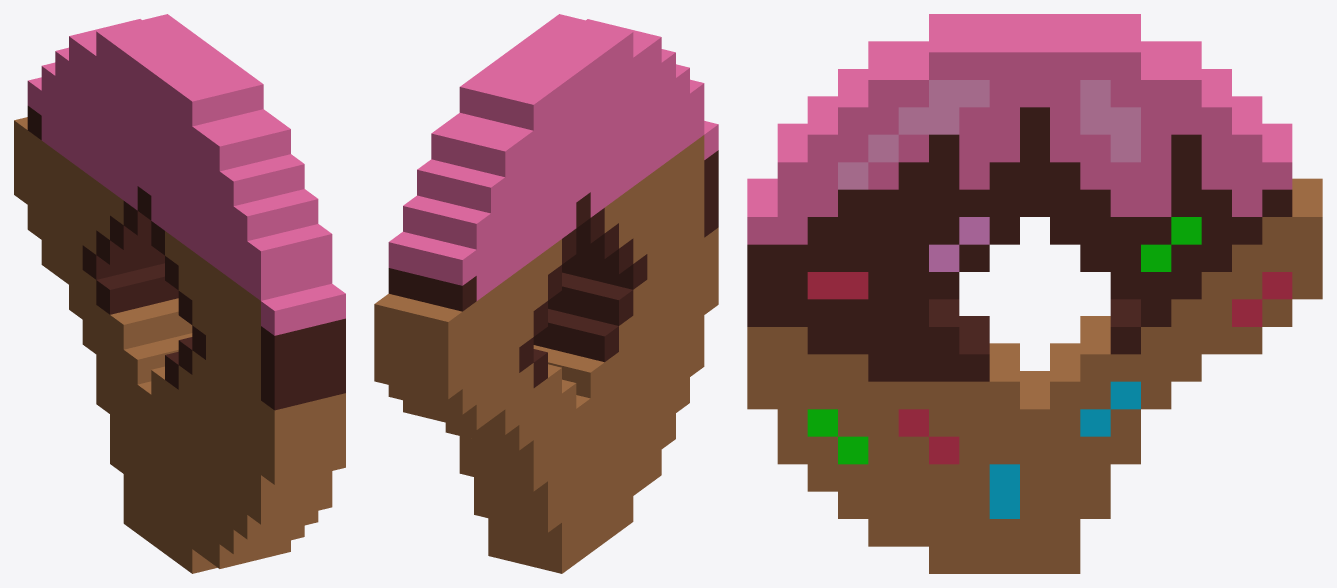
Rendered from Eruption-22.obj.
3 views of the same model, side by side, from view 1: azimuth 30°, elevation 25°; view 2: azimuth 150°, elevation 25°; view 3: azimuth 270°, elevation 25° (orthographic). The views are drawn at different scales.
Bounding box in the file's own units: 0.3 × 1.9 × 1.9.
Materials: 1 (1 with a texture image).
